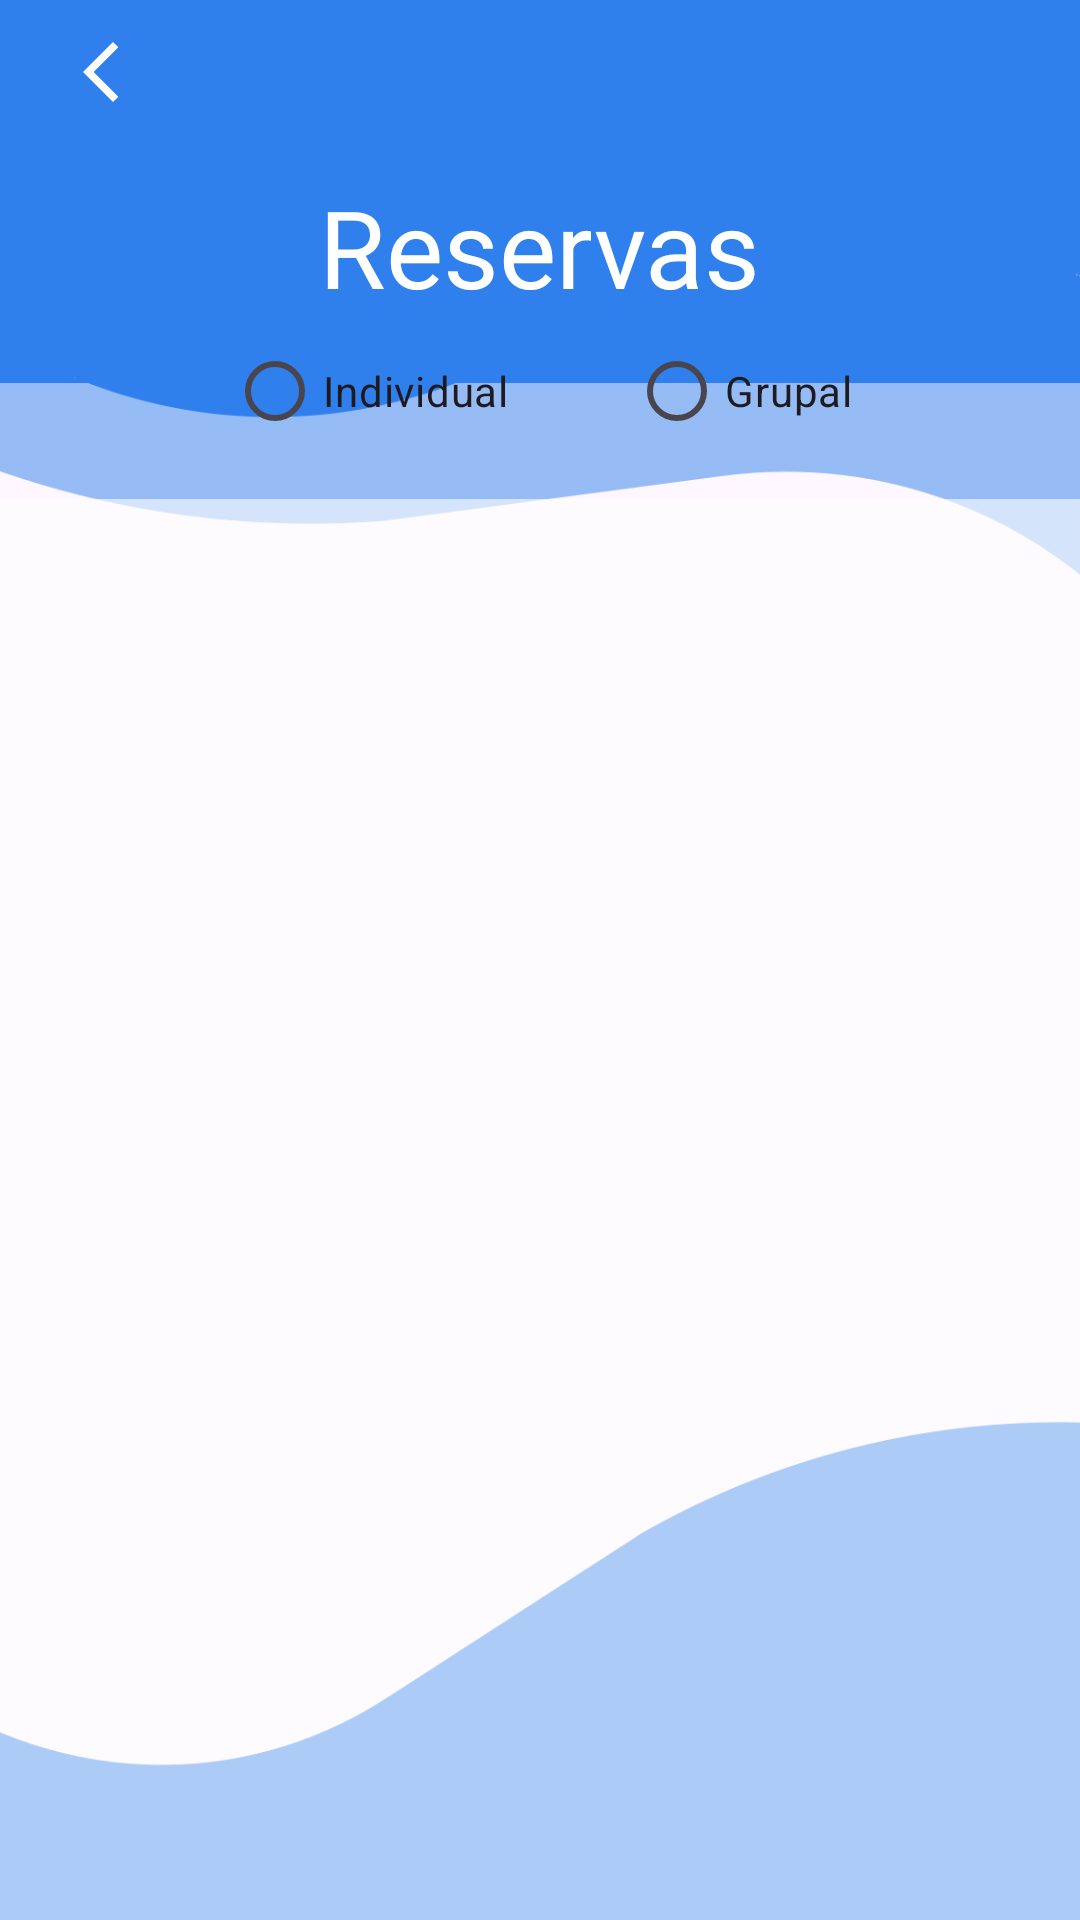

Icon bounding boxes for this 1080 x 1920 phone screenshot, format (x1, y1, x2, y2):
Go back: (83, 42, 118, 102)
